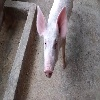heo: (36, 1, 69, 80)
